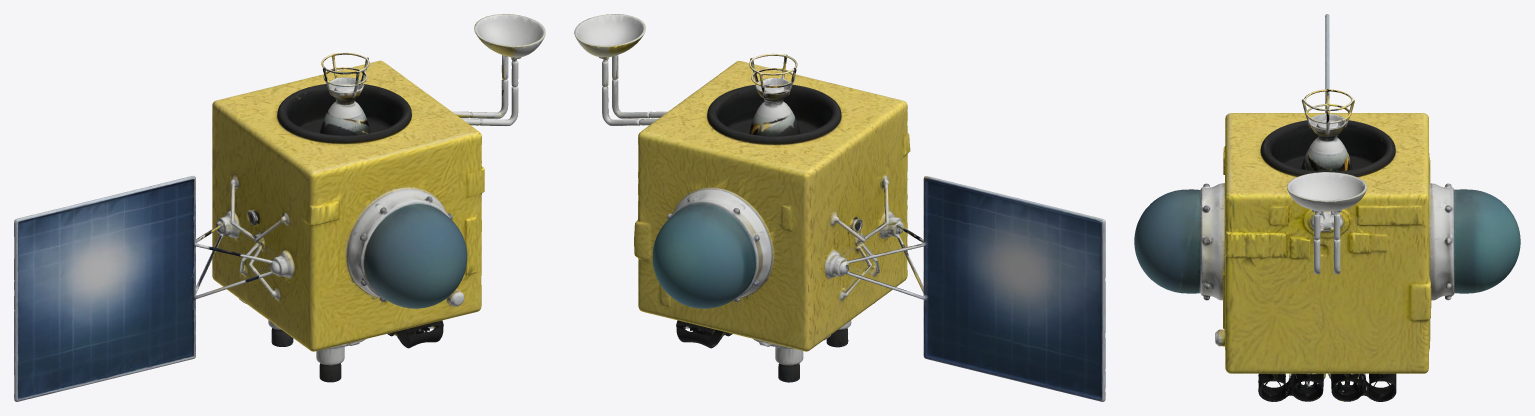
Rendered from chandrayaan1.glb.
The picture shows the model from 3 angles, left to right: view 1: azimuth 30°, elevation 25°; view 2: azimuth 150°, elevation 25°; view 3: azimuth 270°, elevation 25°; orthographic projection.
Bounding box in the file's own units: 1.9 × 0.9949 × 1.21.
Materials: 1 (1 with a texture image).
